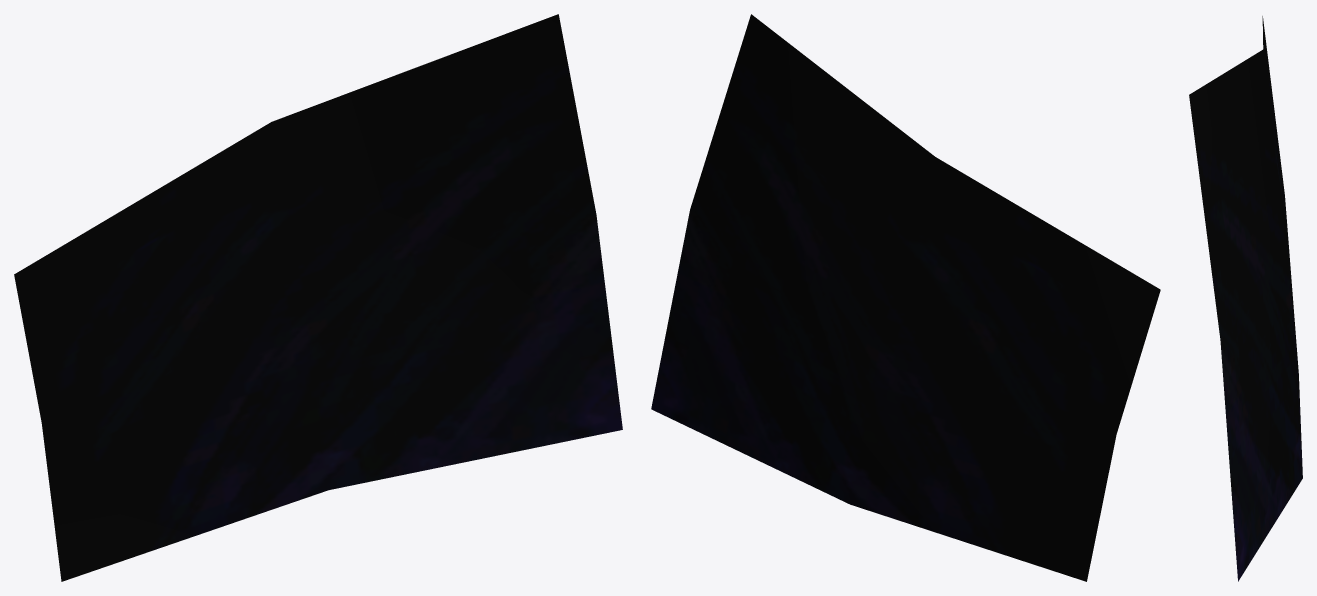
The model's file is SWORDLIGHT20_PS-AREA05-RANGE01_07.fbx.
The picture shows the model from 3 angles, left to right: view 1: azimuth 30°, elevation 25°; view 2: azimuth 150°, elevation 25°; view 3: azimuth 270°, elevation 25°; orthographic projection. The views are drawn at different scales.
Parts seen in each view (by area): view 1: SWORDLIGHT20_PS-AREA05-RANGE01_07; view 2: SWORDLIGHT20_PS-AREA05-RANGE01_07; view 3: SWORDLIGHT20_PS-AREA05-RANGE01_07.
Boxes of the visible parts, left/top/right/bottom form: SWORDLIGHT20_PS-AREA05-RANGE01_07: left=14, top=14, right=622, bottom=581; SWORDLIGHT20_PS-AREA05-RANGE01_07: left=651, top=14, right=1160, bottom=581; SWORDLIGHT20_PS-AREA05-RANGE01_07: left=1189, top=16, right=1302, bottom=581.
Size of the model in its own units: 269115 by 216361 by 45673.
Materials: 1 (1 with a texture image).
